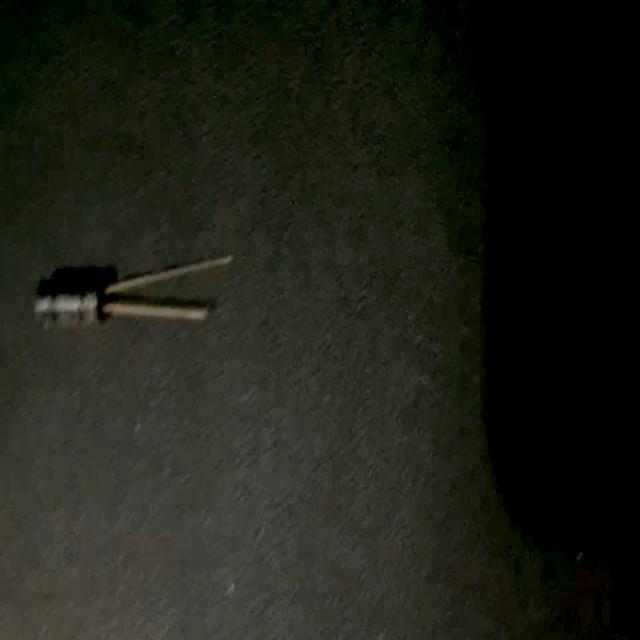capacitor: (31, 256, 235, 331)
